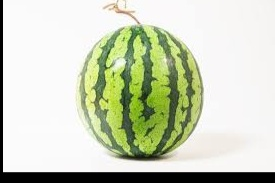watermelon: (73, 23, 204, 159)
